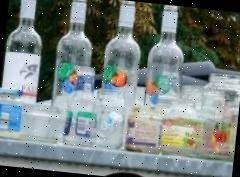glass: (0, 0, 240, 161)
